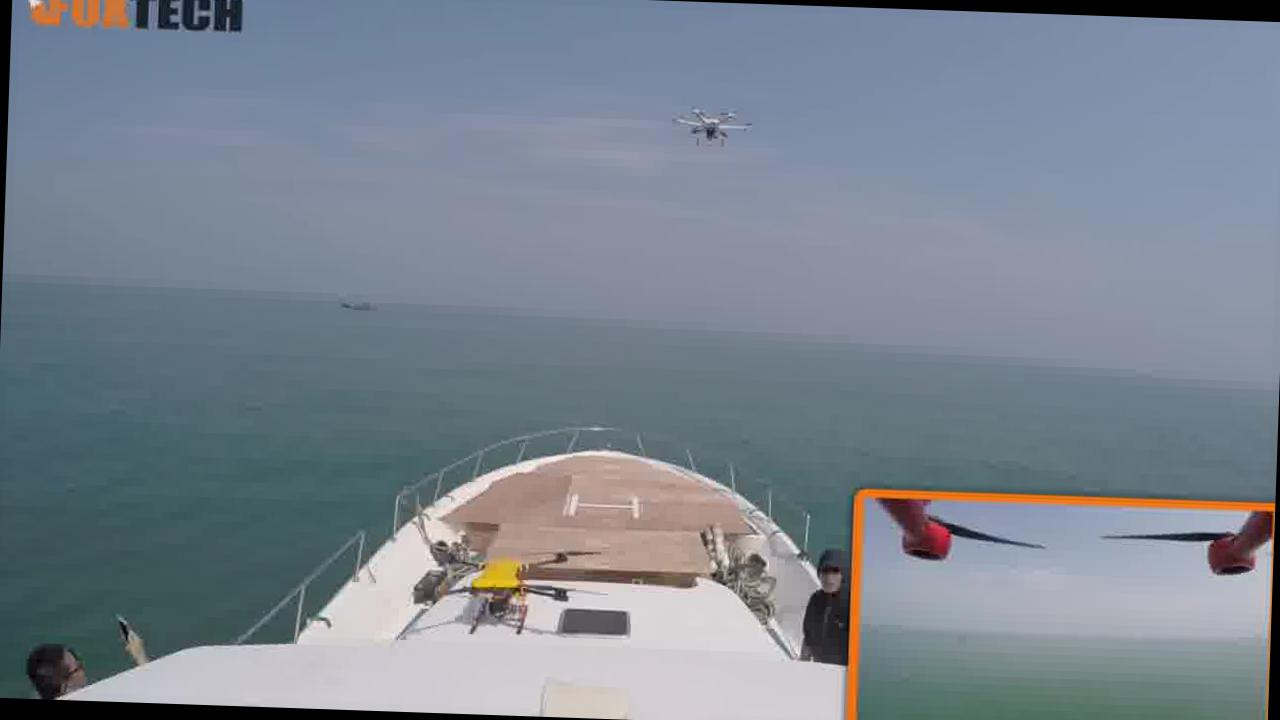drone: (673, 102, 751, 147)
